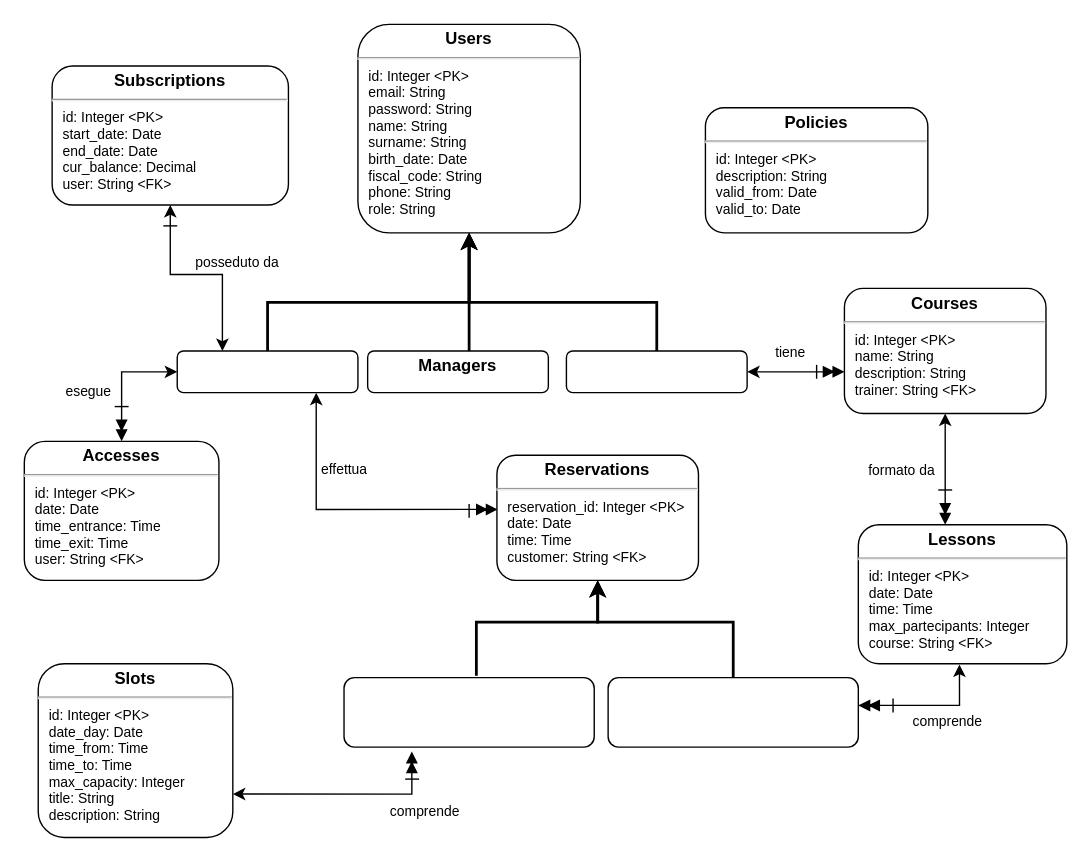
The diagram is 1091 pixels wide and 862 high, and some of its shapes have lost their labels. Here are the shapes that lost their labels. From the top down, the centre of each, then its label:
point (267, 371): Customers
point (656, 371): Trainers
point (468, 711): WeightRoom Reservations slot: String <FK>
point (732, 711): Lesson Reservations lesson: String <FK>
